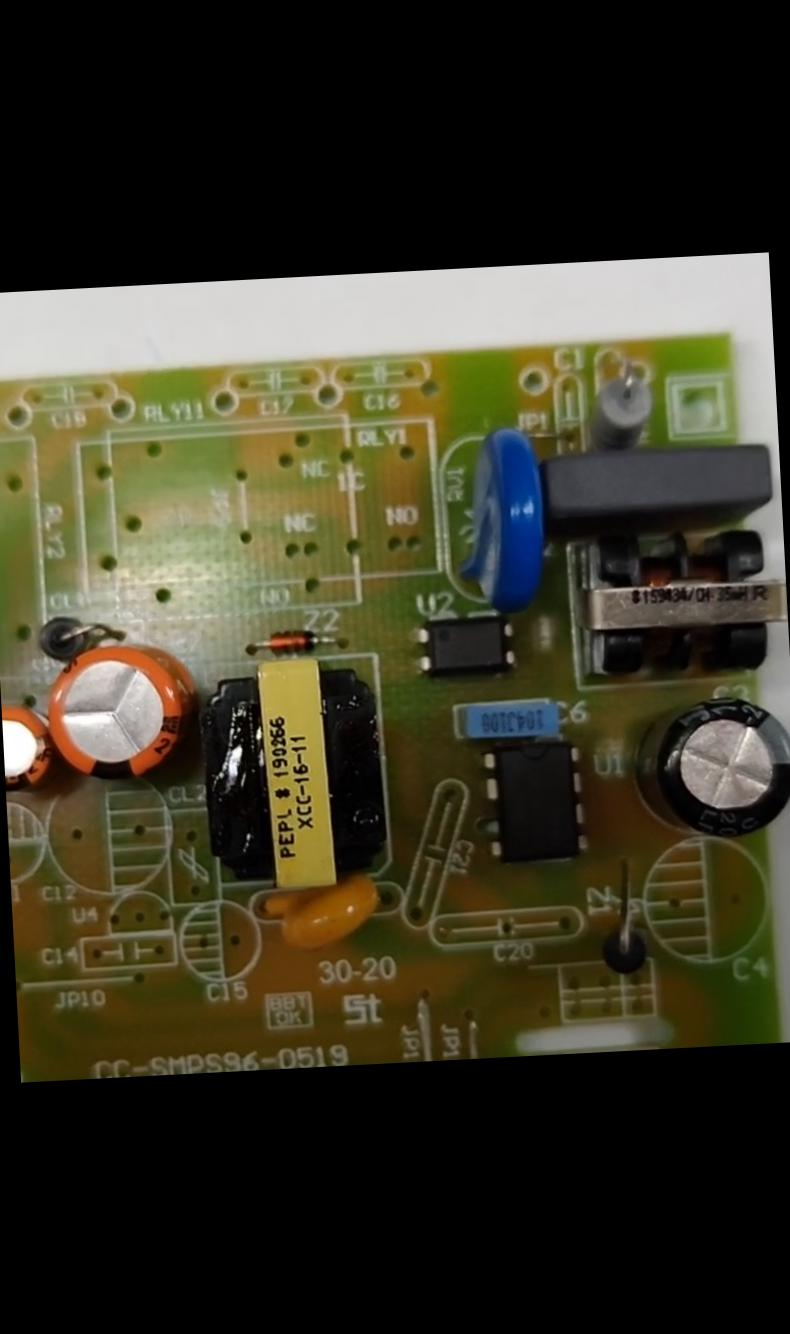Cap1: (42, 638, 194, 784)
Cap2: (2, 706, 52, 794)
Cap3: (621, 693, 789, 843)
MOSFET: (484, 738, 586, 864)
Mov: (456, 427, 552, 600)
Resistor: (586, 371, 656, 454)
Transformer: (193, 652, 380, 894), (581, 530, 790, 678)
